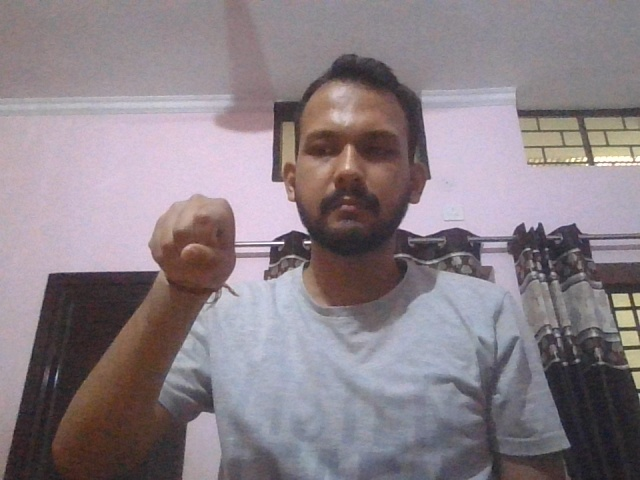yes: (149, 193, 238, 293)
